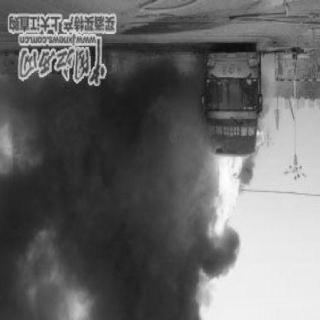Fire: (206, 152, 252, 260), (255, 129, 273, 161)
Smoke: (16, 85, 202, 318)
